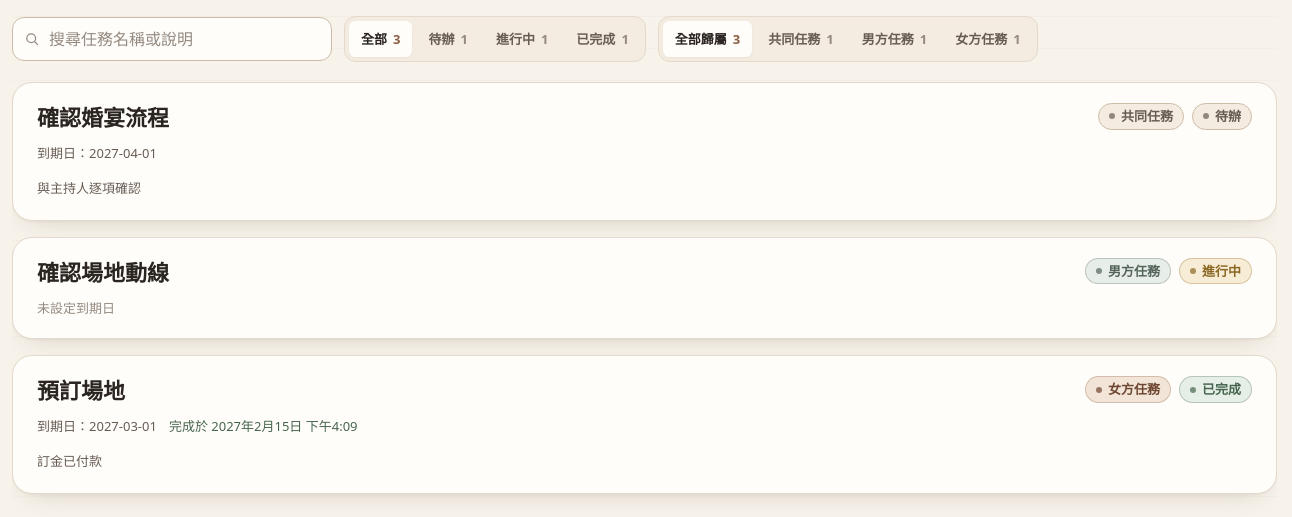
WeddingTaskList › shows and filters task sides independently from status
Check: the text "共同任務" is shown, box [1098,103,1184,130]
Check: the text "男方任務" is shown, box [1085,258,1171,284]
Click the radio button labelled "男方任務 1" at (894, 39), box [850,21,939,57]
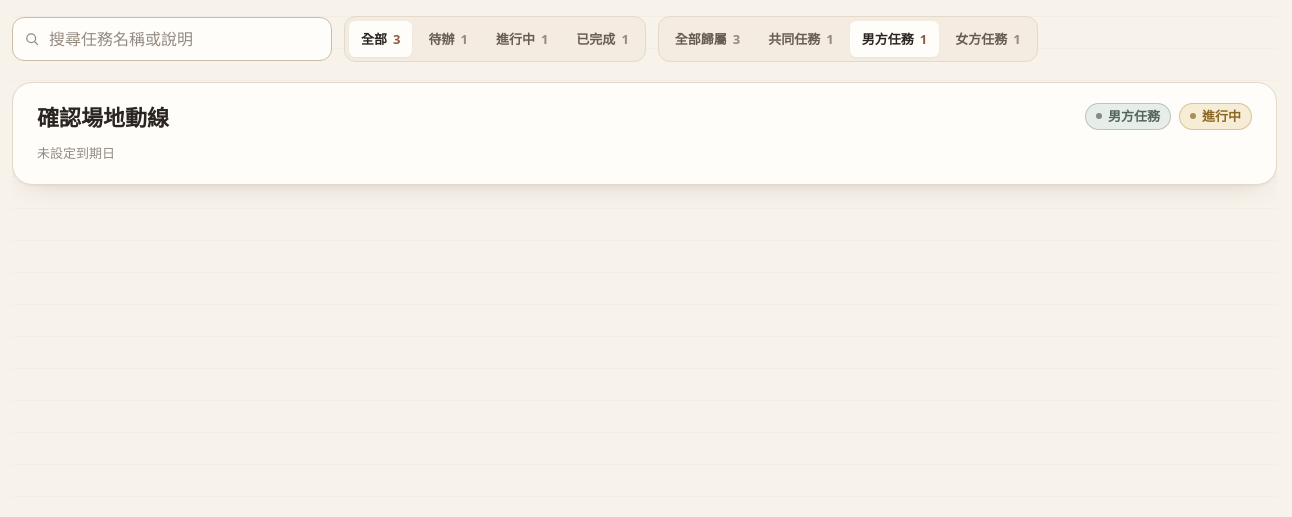
Check: the heading "確認場地動線" is shown, box [37,106,169,131]
Check: the heading "確認婚宴流程" is gone
Check: the heading "預訂場地" is gone
